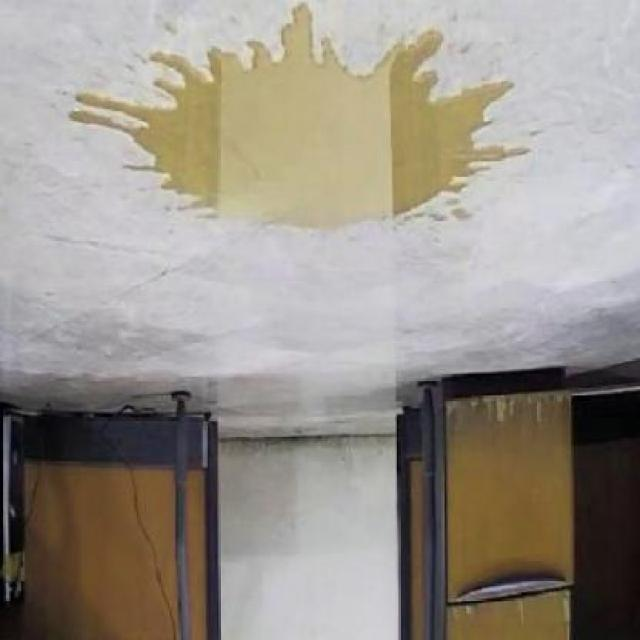spillage: (68, 1, 513, 227)
